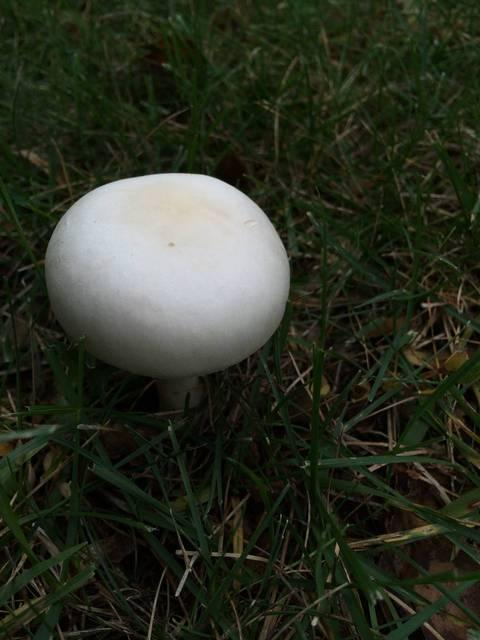poisonous_mushroom: (43, 170, 291, 414)
